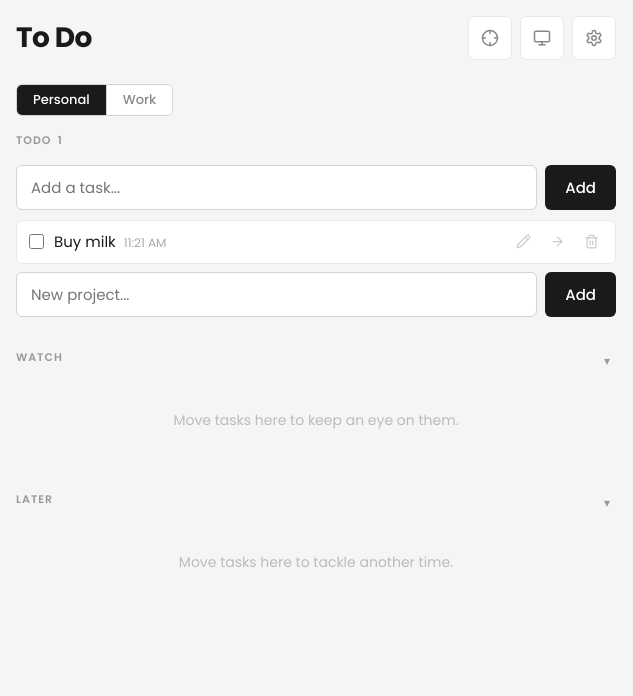
Test: undo delete › drops the pending undo when switching mode
Click the button named "Delete task" at (591, 242), box [579,230,603,254]
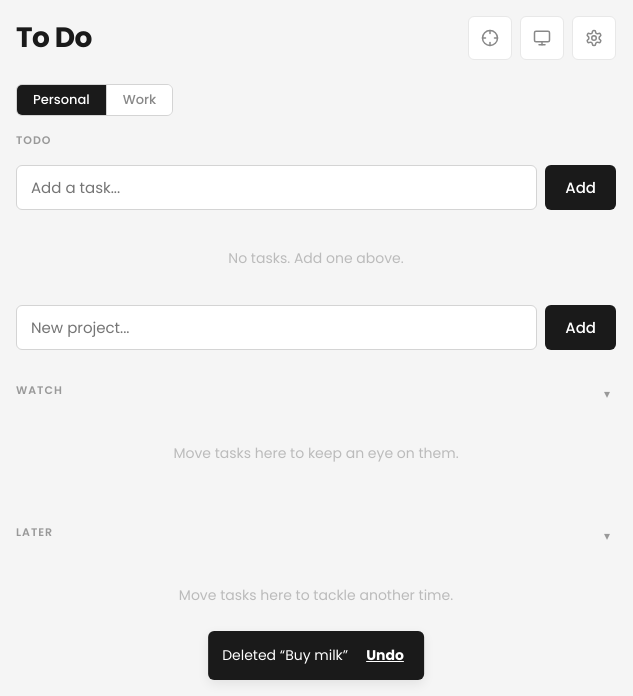
expect the message "Deleted “Buy milk” Undo" is shown: met, box [208,631,424,680]
Click the button "Work" at (139, 100), box [106,85,172,115]
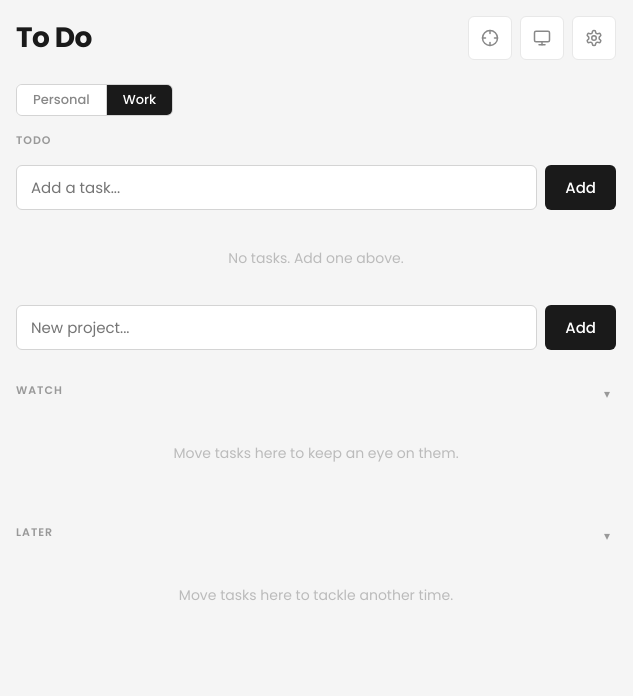
expect the message with class "undo-toast" is gone: met
